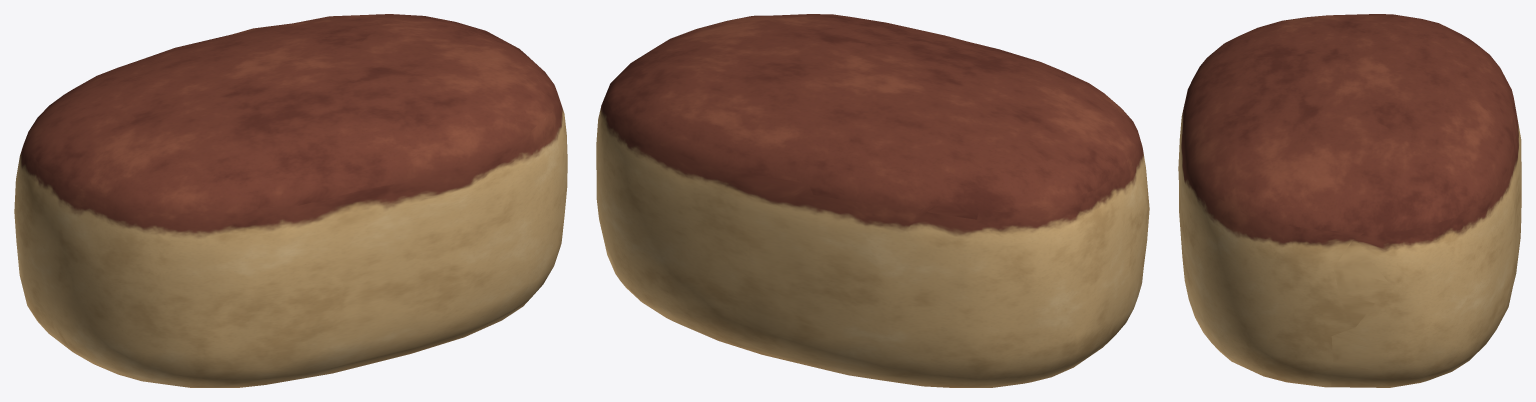
Rendered from kurimanju_lod2.glb.
The picture shows the model from 3 angles, left to right: view 1: azimuth 30°, elevation 25°; view 2: azimuth 150°, elevation 25°; view 3: azimuth 270°, elevation 25°; orthographic projection. The views are drawn at different scales.
Parts seen in each view (by area): view 1: kurimanju_lod2; view 2: kurimanju_lod2; view 3: kurimanju_lod2.
Part boxes in pixels (bbox=[...]): kurimanju_lod2: bbox=[14, 14, 567, 387]; kurimanju_lod2: bbox=[596, 14, 1149, 387]; kurimanju_lod2: bbox=[1178, 14, 1521, 387].
Bounding box in the file's own units: 0.065 × 0.03 × 0.043.
Materials: 1 (1 with a texture image).
